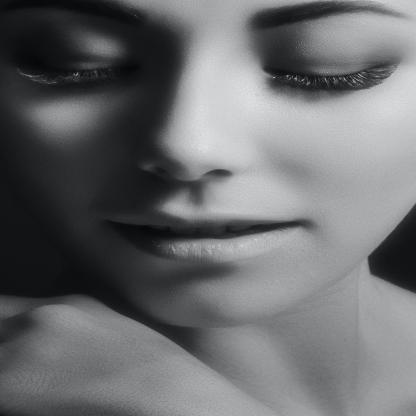Eye: (250, 13, 416, 98), (1, 21, 152, 95)
Mouth: (82, 202, 322, 268)
Nose: (131, 44, 254, 182)
